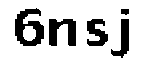6: (11, 6, 47, 51)
j: (110, 6, 136, 60)
n: (46, 16, 80, 49)
s: (85, 17, 113, 49)
